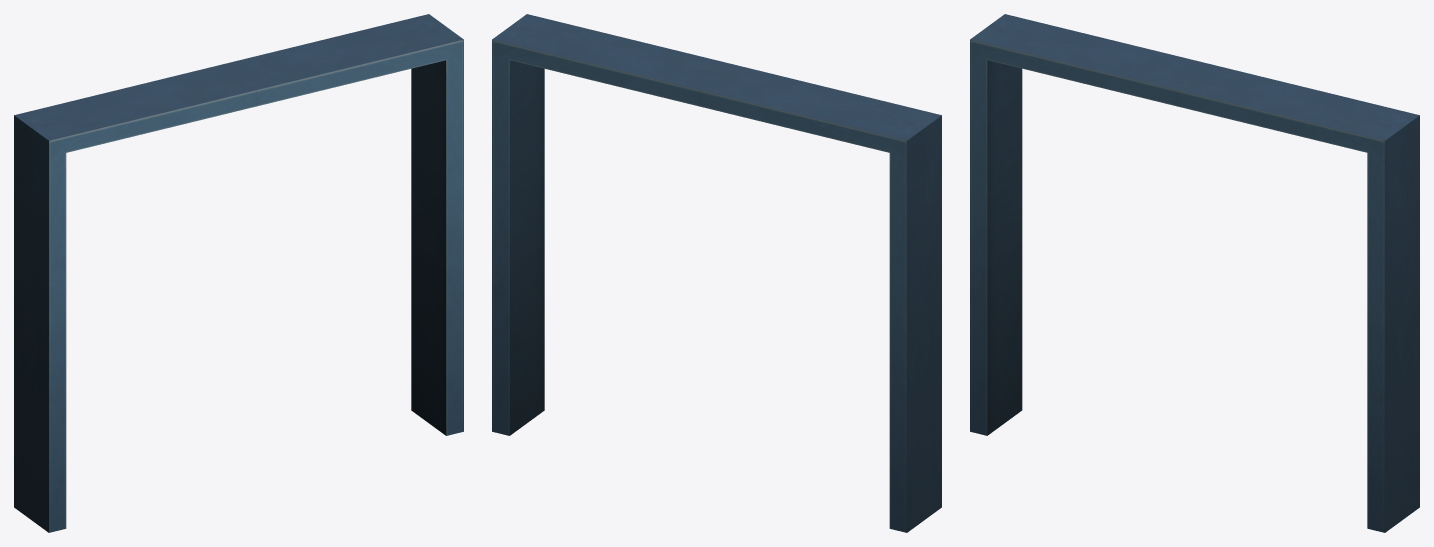
Rendered from fhmk.obj.
3 renders of one model, left to right at view 1: azimuth 30°, elevation 25°; view 2: azimuth 150°, elevation 25°; view 3: azimuth 330°, elevation 25°, orthographic.
Parts seen in each view (by area): view 1: Box004; view 2: Box004; view 3: Box004.
Boxes of the visible parts, bbox=[...] form: Box004: bbox=[14, 14, 463, 532]; Box004: bbox=[492, 14, 941, 532]; Box004: bbox=[970, 14, 1419, 532].
Bounding box in the file's own units: 112 × 101 × 16.35.
